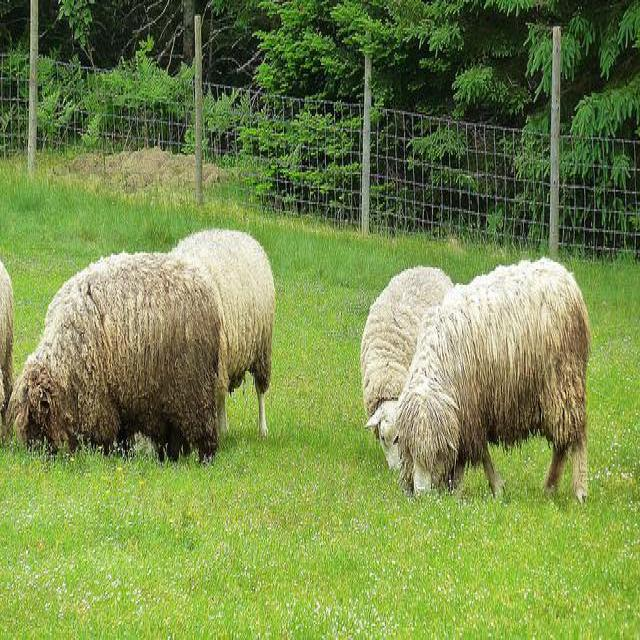Sheep: (402, 253, 593, 512), (9, 250, 224, 459), (168, 229, 278, 443), (363, 269, 461, 478)
